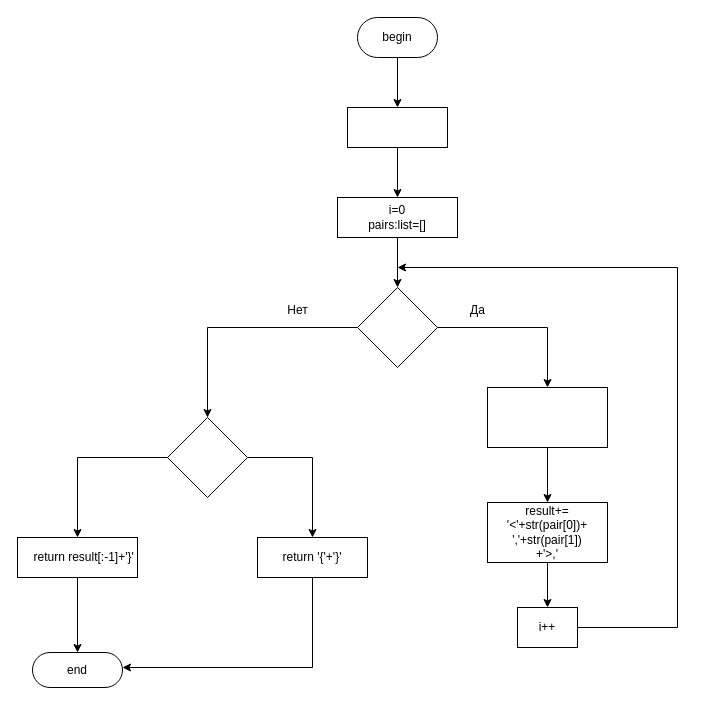
Image size: 703x705. Some labels were removed from this diagram. The shapes that lost their labels are listed below. From the top down, each one's box as (x1, y1, x2, y2) in pixels, then its label:
(346, 106, 448, 148): result='{'
(356, 286, 438, 368): i<len(pairs)
(486, 386, 608, 448): pair=pairs[i]
(166, 416, 248, 498): result=='{'
